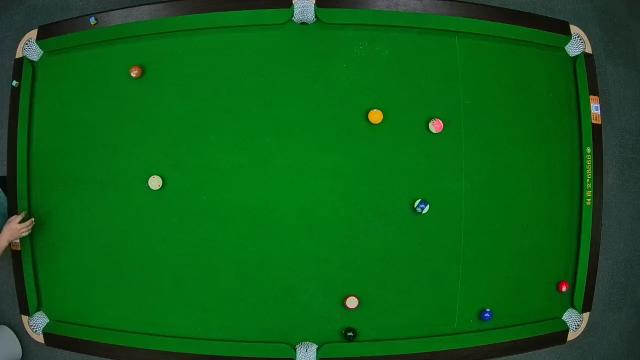bag1: (19, 36, 45, 64)
bag2: (292, 0, 316, 26)
bag3: (563, 30, 589, 57)
bag4: (25, 309, 51, 339)
bag5: (294, 340, 318, 360)
bag6: (560, 306, 586, 334)
ball0: (148, 175, 164, 191)
ball1: (368, 107, 384, 125)
ball10: (414, 198, 431, 216)
ball11: (343, 294, 361, 310)
ball12: (428, 117, 444, 134)
ball2: (478, 306, 494, 324)
ball3: (556, 279, 572, 295)
ball7: (129, 64, 143, 80)
ball8: (342, 326, 358, 342)
